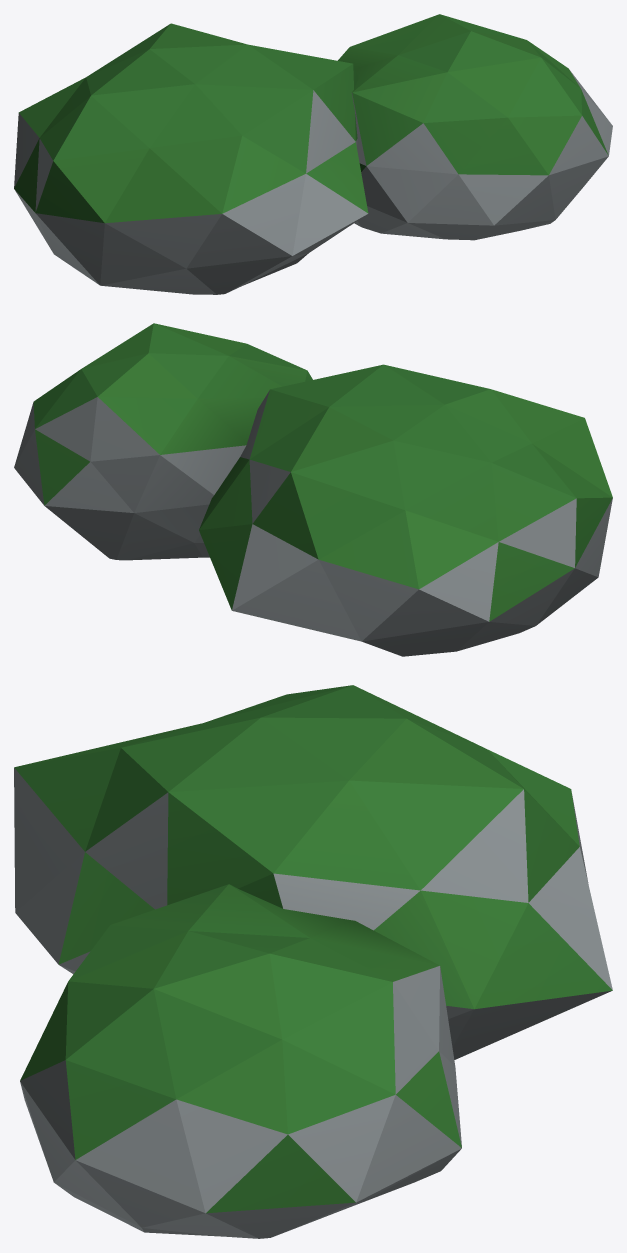
Rendered from rock_mossy_b_low.glb.
3 views of the same model, one above another, from view 1: azimuth 30°, elevation 25°; view 2: azimuth 150°, elevation 25°; view 3: azimuth 270°, elevation 25° (orthographic). The views are drawn at different scales.
Size of the model in its own units: 3.17 by 0.9359 by 1.97.
